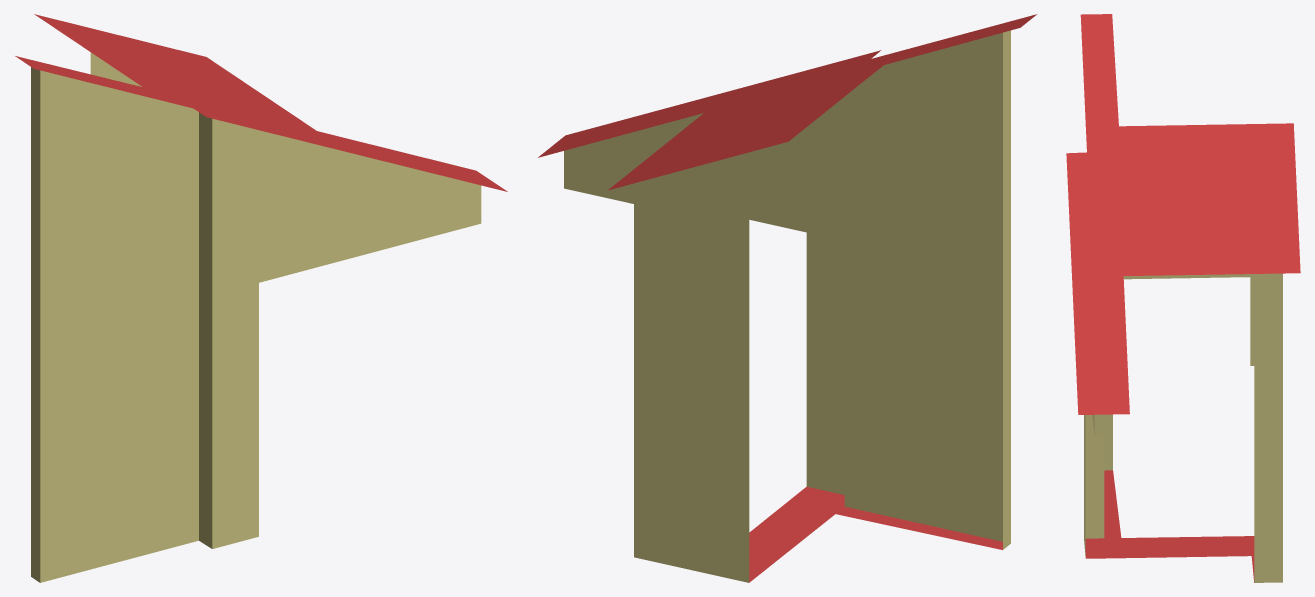
3 views of the same model, side by side, from view 1: azimuth 30°, elevation 25°; view 2: azimuth 150°, elevation 25°; view 3: azimuth 270°, elevation 25° (orthographic). The views are drawn at different scales.
Size of the model in its own units: 13.86 by 6.93 by 14.67.
